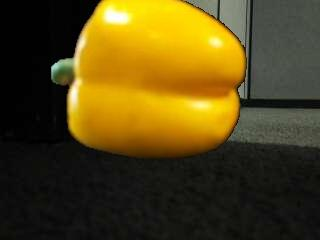Capsicum: (47, 0, 248, 162)
